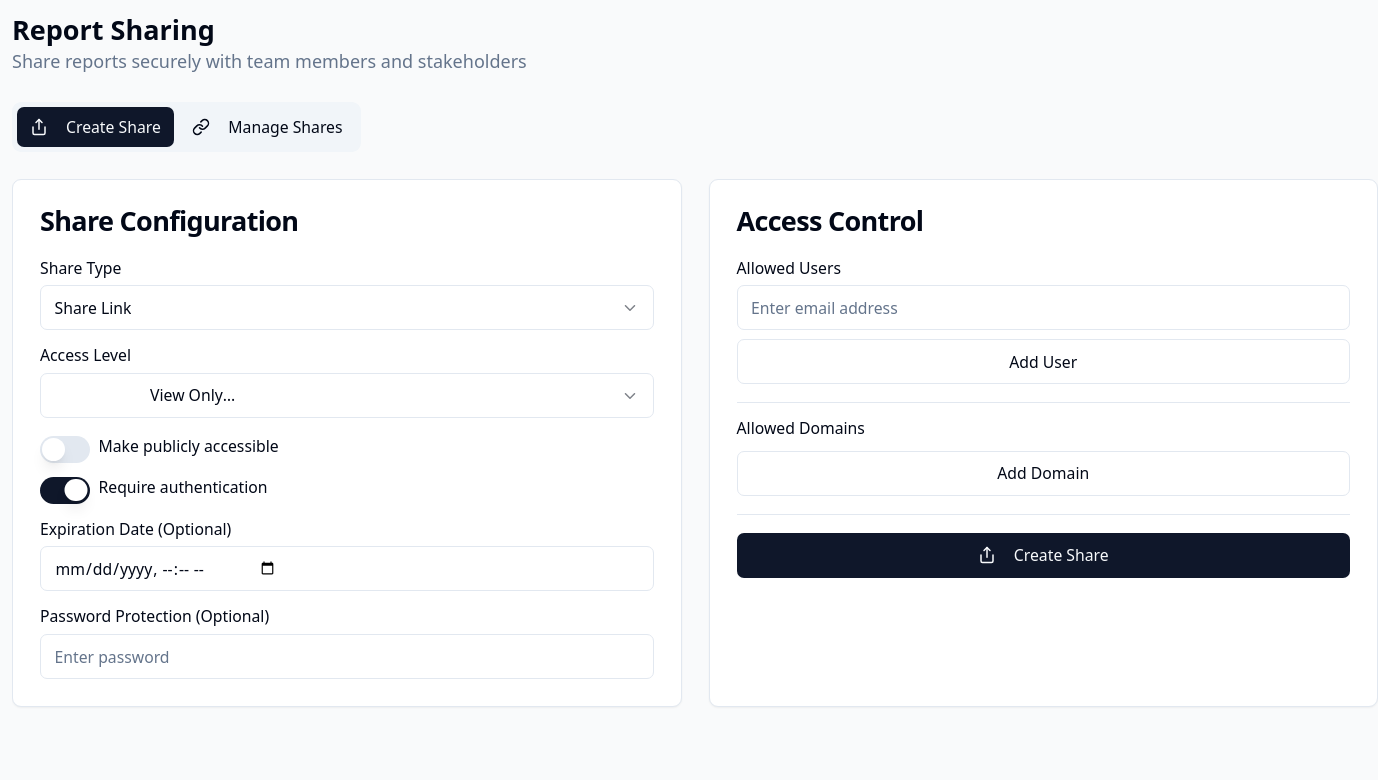
Test: ReportSharing › hides access control options for public sharing
Note: Toggle to public
Click the switch named "Make publicly accessible" next to "Make publicly accessible".
click(65, 450)  # box [40,436,90,463]
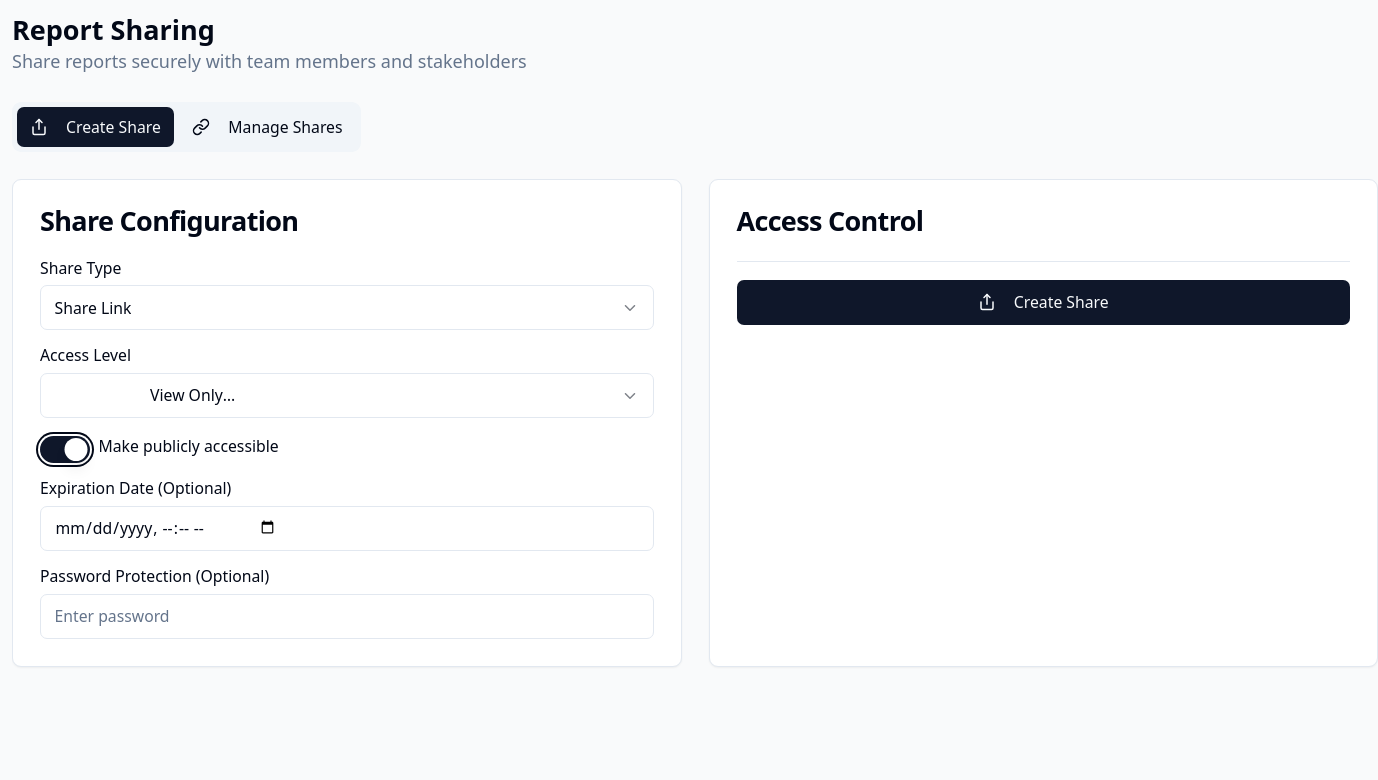
Result: the text "Allowed Users" is gone
Result: the text "Allowed Domains" is gone
